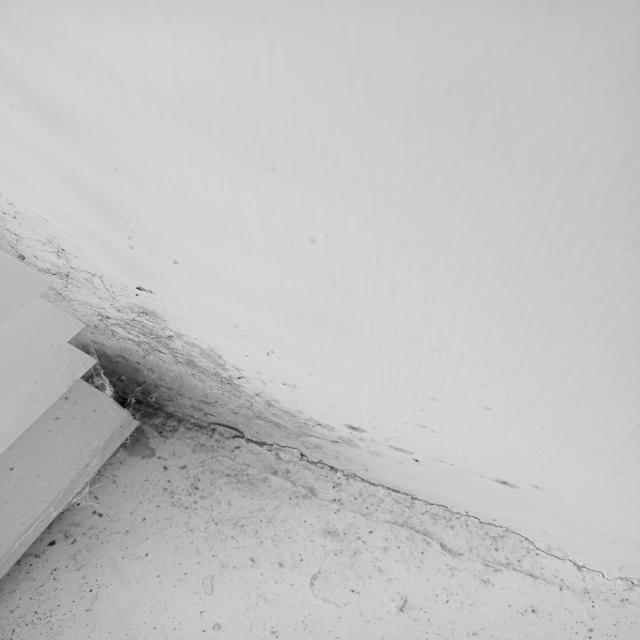stain marks: (8, 430, 634, 640), (1, 194, 442, 466), (96, 296, 270, 400), (484, 468, 546, 503)
